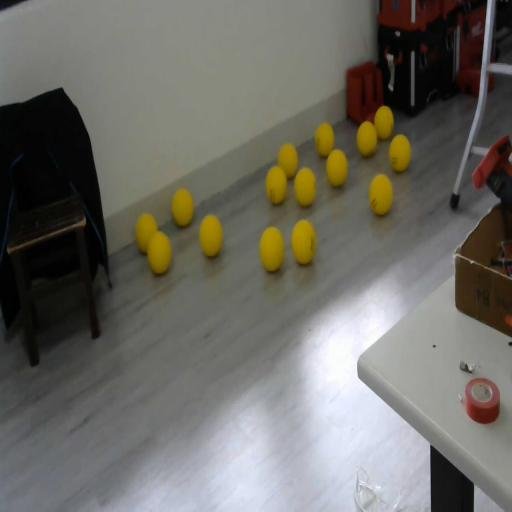FUEL: (258, 224, 286, 272), (290, 218, 316, 266), (146, 230, 172, 275), (198, 212, 223, 258), (368, 173, 394, 216), (170, 187, 195, 228), (326, 148, 349, 188), (294, 166, 316, 207), (277, 141, 299, 180), (266, 166, 287, 206), (389, 134, 411, 172), (356, 120, 378, 156), (374, 105, 394, 140), (314, 122, 334, 156)
